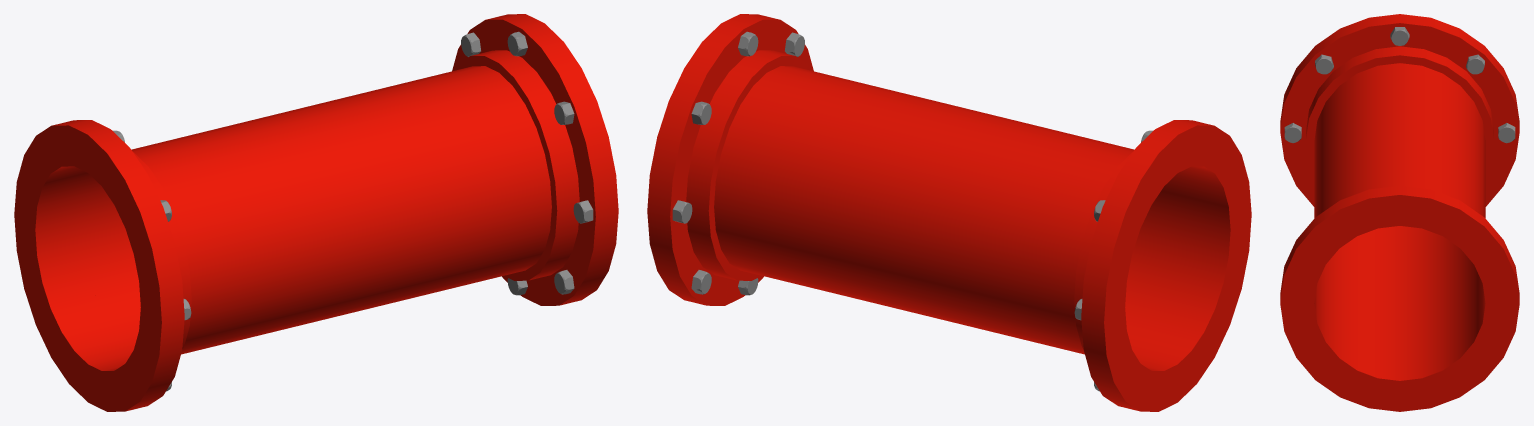
Rendered from Pipe_200_Straight_0.5m.fbx.
3 views of the same model, side by side, from view 1: azimuth 30°, elevation 25°; view 2: azimuth 150°, elevation 25°; view 3: azimuth 270°, elevation 25° (orthographic). The views are drawn at different scales.
Visible parts, largest first — view 1: Pipe_200_Straight_0.5m; view 2: Pipe_200_Straight_0.5m; view 3: Pipe_200_Straight_0.5m.
Part boxes in pixels (x1,y1,x2,y2): Pipe_200_Straight_0.5m: [14, 14, 618, 411]; Pipe_200_Straight_0.5m: [647, 14, 1251, 411]; Pipe_200_Straight_0.5m: [1280, 14, 1519, 411].
Size of the model in its own units: 0.5 by 0.28 by 0.28.
